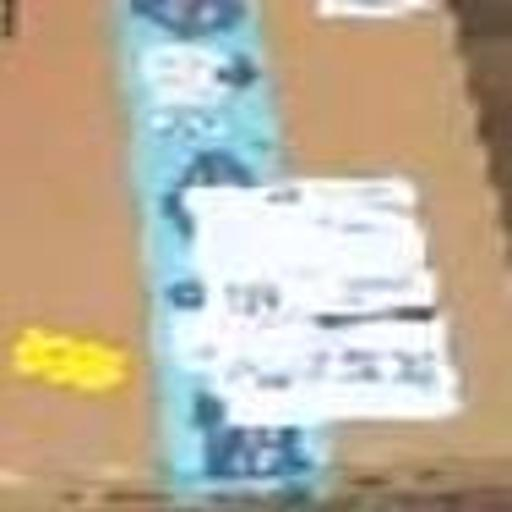Amazon: (18, 1, 491, 484)
